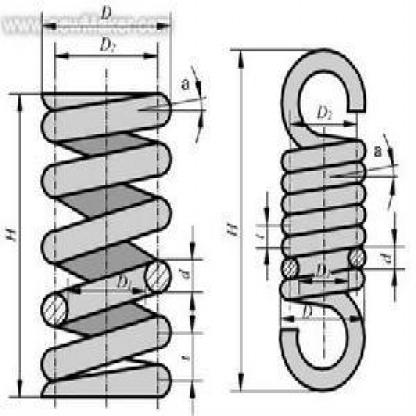FOD: (38, 78, 174, 403), (272, 47, 372, 395)
